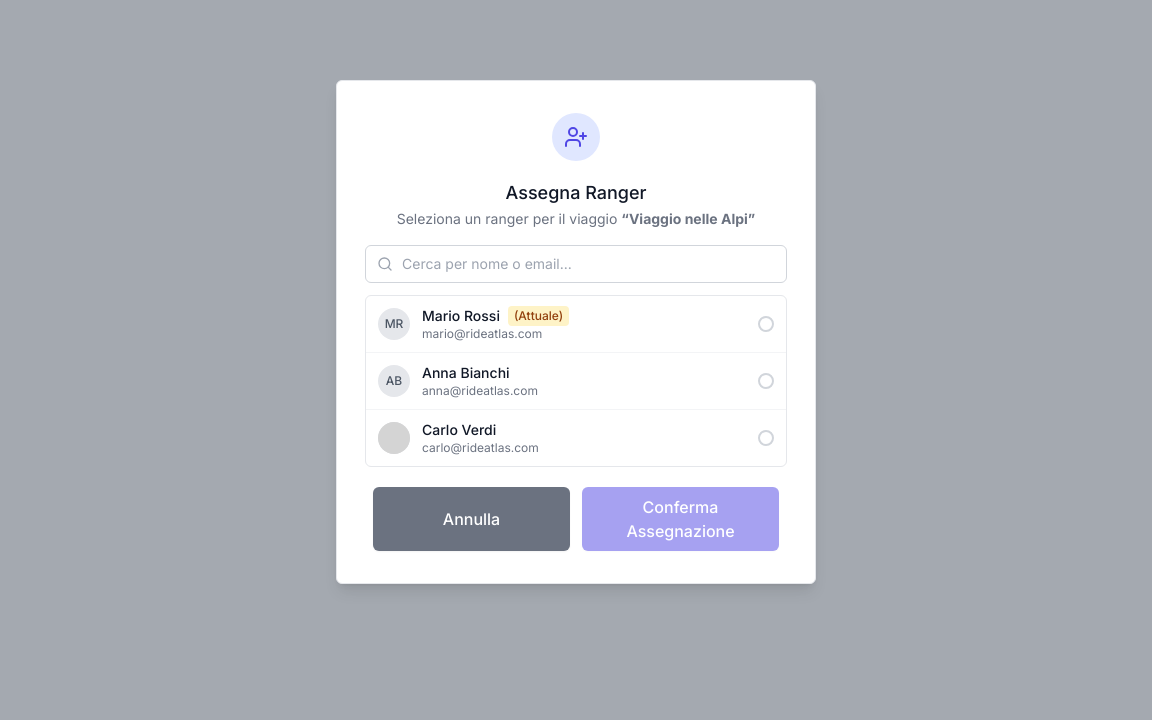
Test: AssegnaRangerDialog - Componente dialogo assegnazione ranger › Stato pulsante conferma › Abilita il pulsante conferma se selezionato un ranger diverso
Expected: the text "Anna Bianchi" is shown, top-left (422, 363), bottom-right (510, 383)
# Clicca su un ranger diverso
Click the button "AB Anna Bianchi anna@rideatlas.com" at (394, 381), box top-left (366, 352), bottom-right (786, 409)
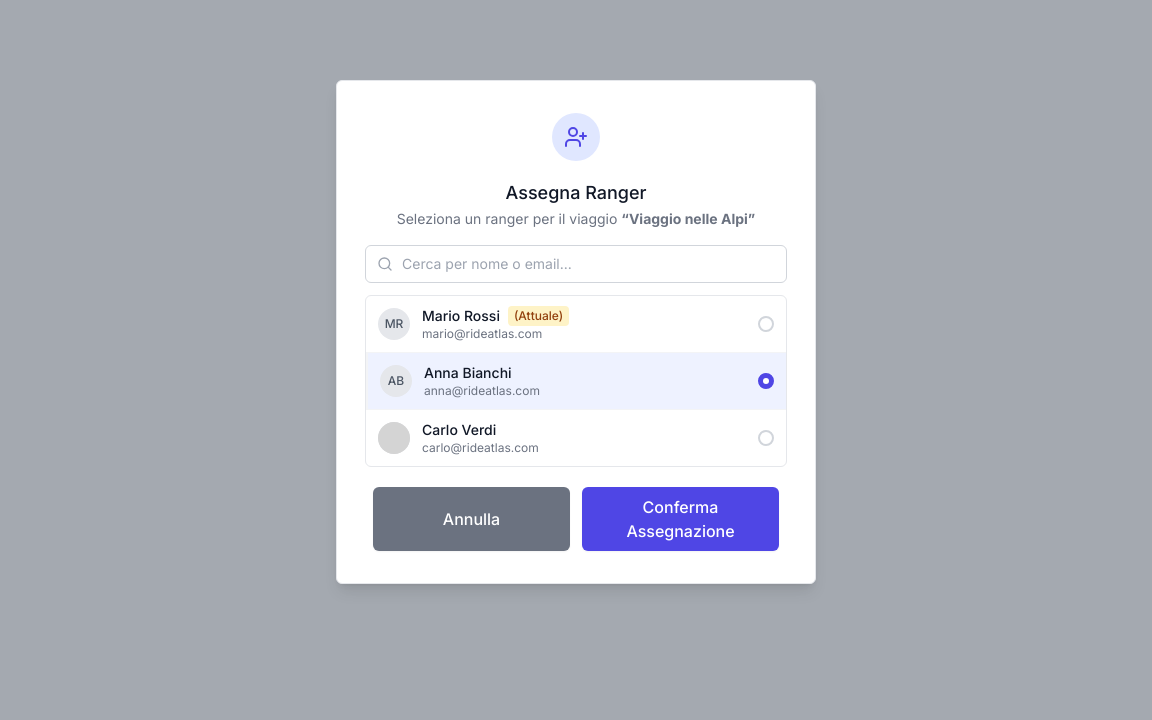
Now the button "Conferma Assegnazione" is enabled, box top-left (582, 487), bottom-right (779, 551)
